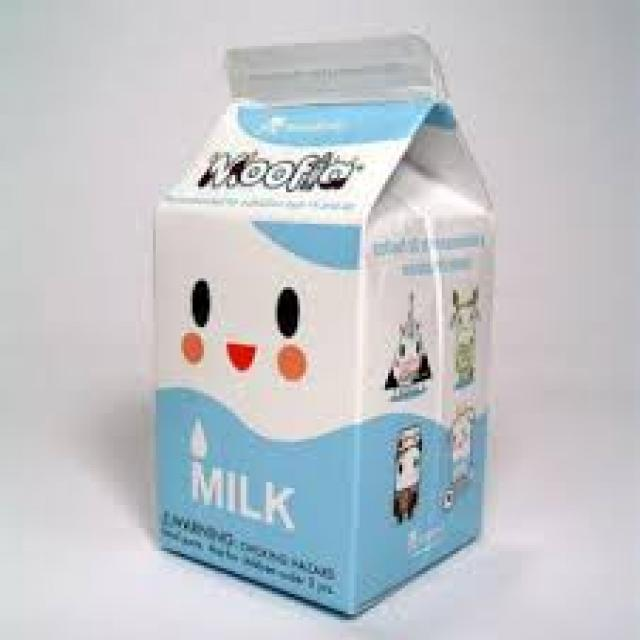non_white_jug: (146, 26, 491, 622)
